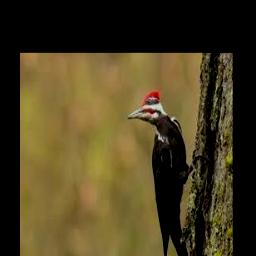Woodpecker: (128, 91, 204, 256)
